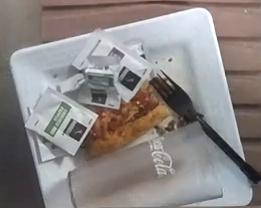pizza_crust: (83, 82, 171, 158)
